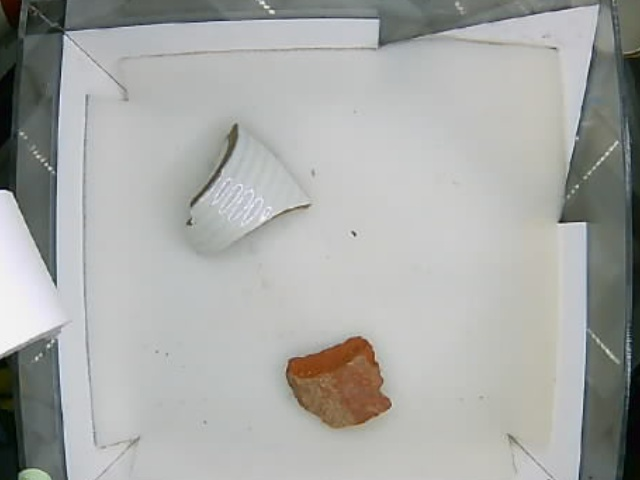Brisk: (285, 330, 391, 431)
China: (183, 126, 313, 255)
